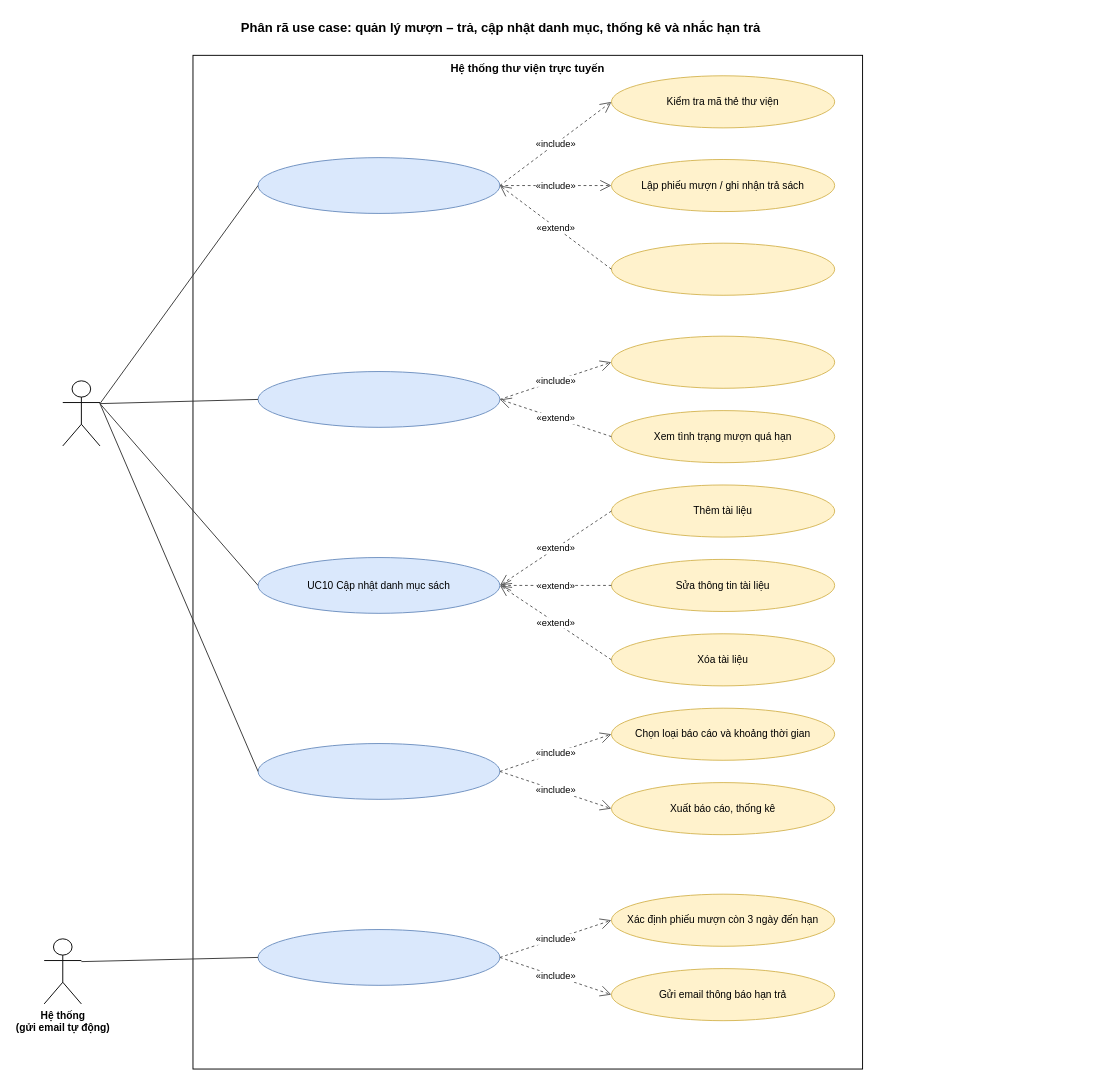
Image size: 1093x1085. Some labels were removed from this diagram. The shapes that lost their labels are listed below. From the top down, each one's centre as x and y in pixels, then its label:
At point (378, 185): "UC08 Quản lý mượn – trả sách".
At point (723, 268): "Xử lý trả sách quá hạn".
At point (723, 361): "Xem danh sách tài liệu đang mượn".
At point (81, 413): "Thủ thư".
At point (378, 399): "UC09 Xem tình trạng tài liệu đang mượn".
At point (378, 771): "UC12 Thống kê, báo cáo".
At point (378, 957): "UC13 Gửi email nhắc hạn trả sách".
